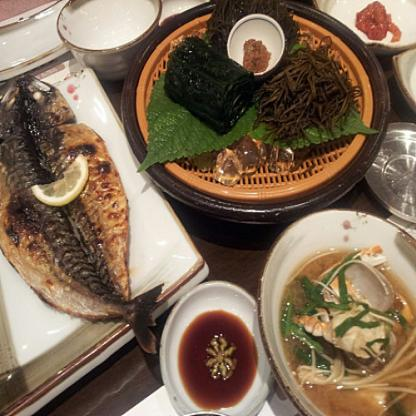Peixe: (0, 66, 161, 364)
